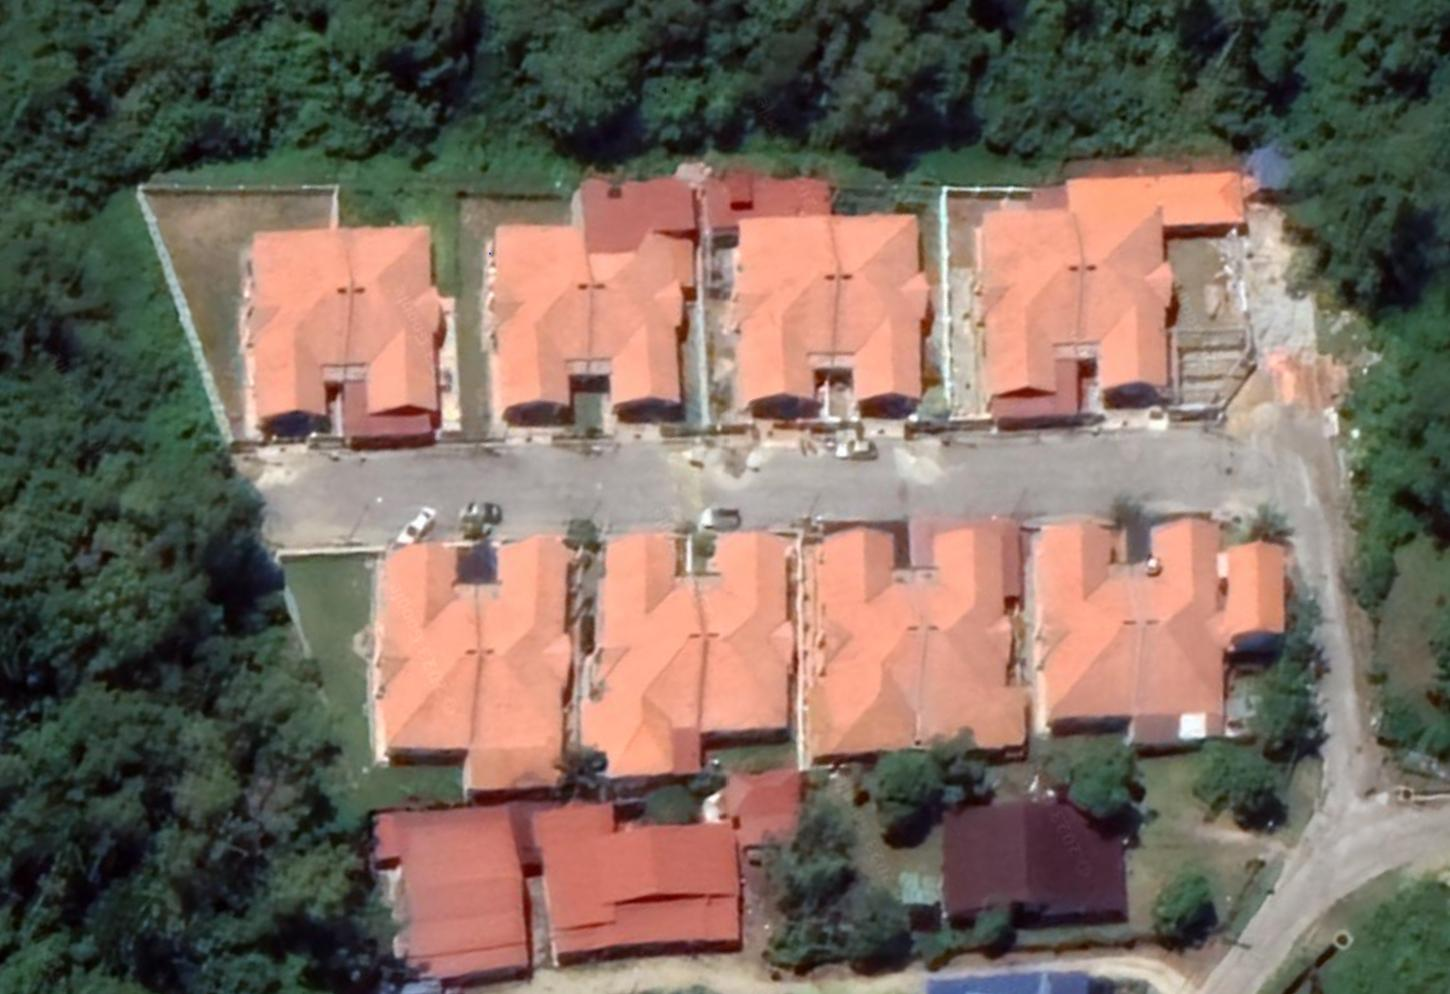building: (521, 754, 815, 979), (1056, 159, 1272, 423), (1124, 506, 1297, 758), (452, 517, 582, 811), (702, 161, 844, 429), (577, 519, 712, 799), (357, 796, 543, 993), (570, 158, 704, 429), (801, 507, 930, 772), (915, 506, 1040, 767), (921, 787, 1137, 934), (342, 213, 472, 447), (973, 183, 1087, 440), (235, 214, 361, 442), (362, 530, 483, 767), (1030, 512, 1147, 747), (477, 213, 600, 434), (693, 516, 803, 750), (840, 190, 940, 428)
